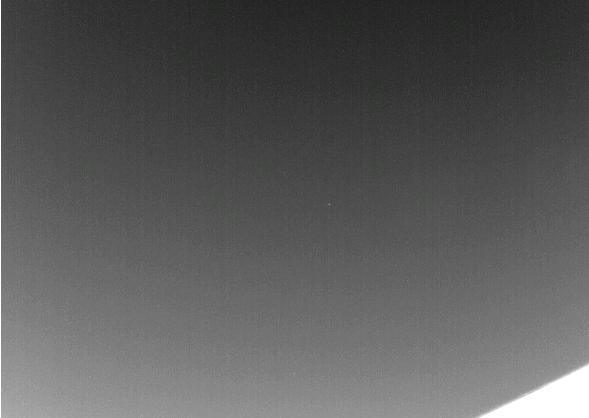dim target: (327, 202, 331, 206)
